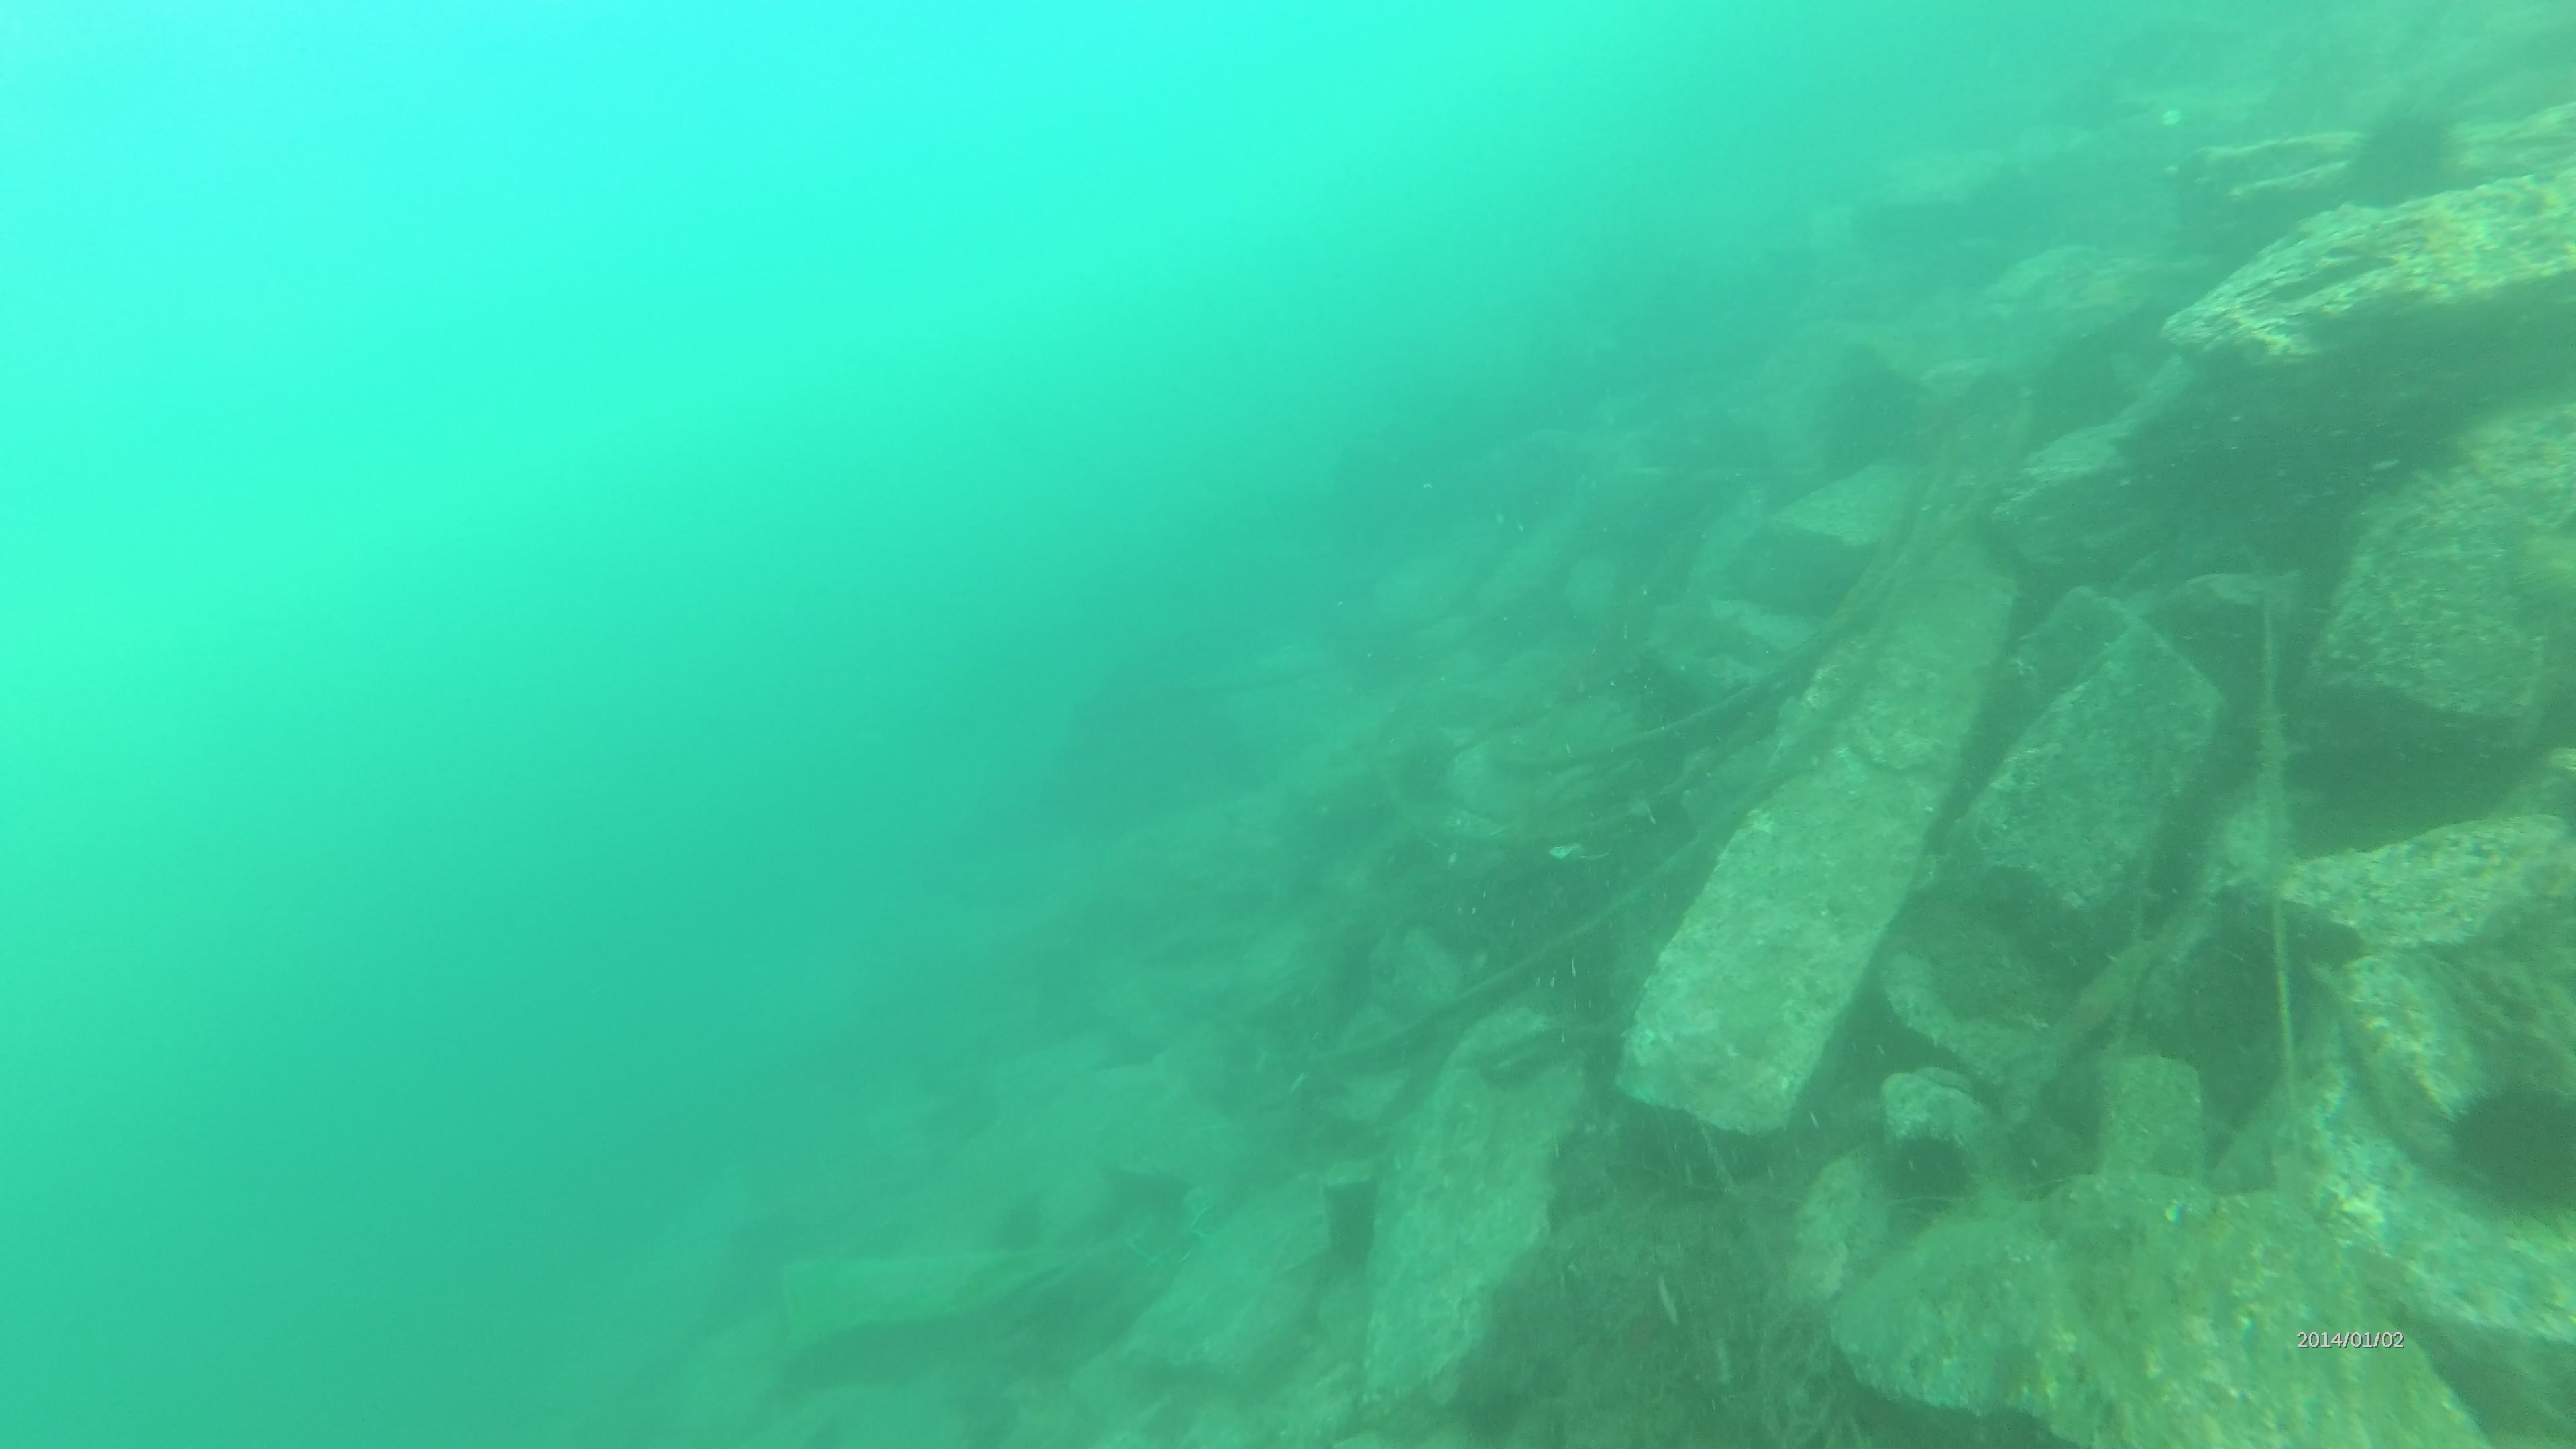echinus: (2440, 1070, 2574, 1221), (2337, 97, 2466, 214), (1874, 1122, 1982, 1215)
